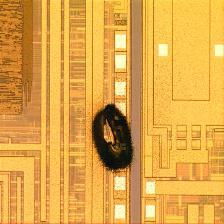PARTICLE: (84, 101, 145, 177)
